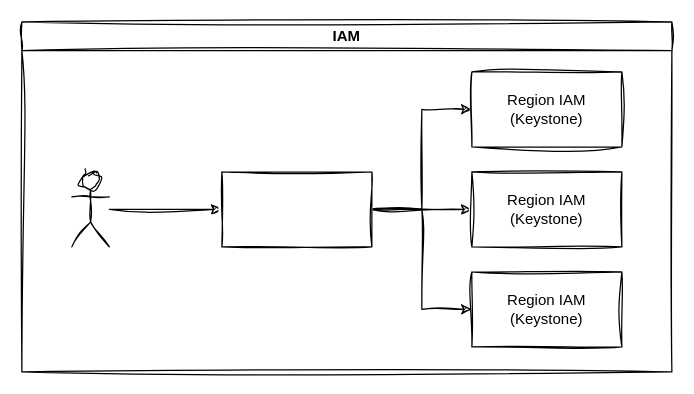
This 694x394 diagram has some shape labels left out. The shapes that lost their labels are listed below. From the top down, each one's box as (x1, y1, x2, y2) in pixels, then its label:
(71, 171, 109, 247): User
(221, 171, 372, 247): Global IAM (Keystone)
